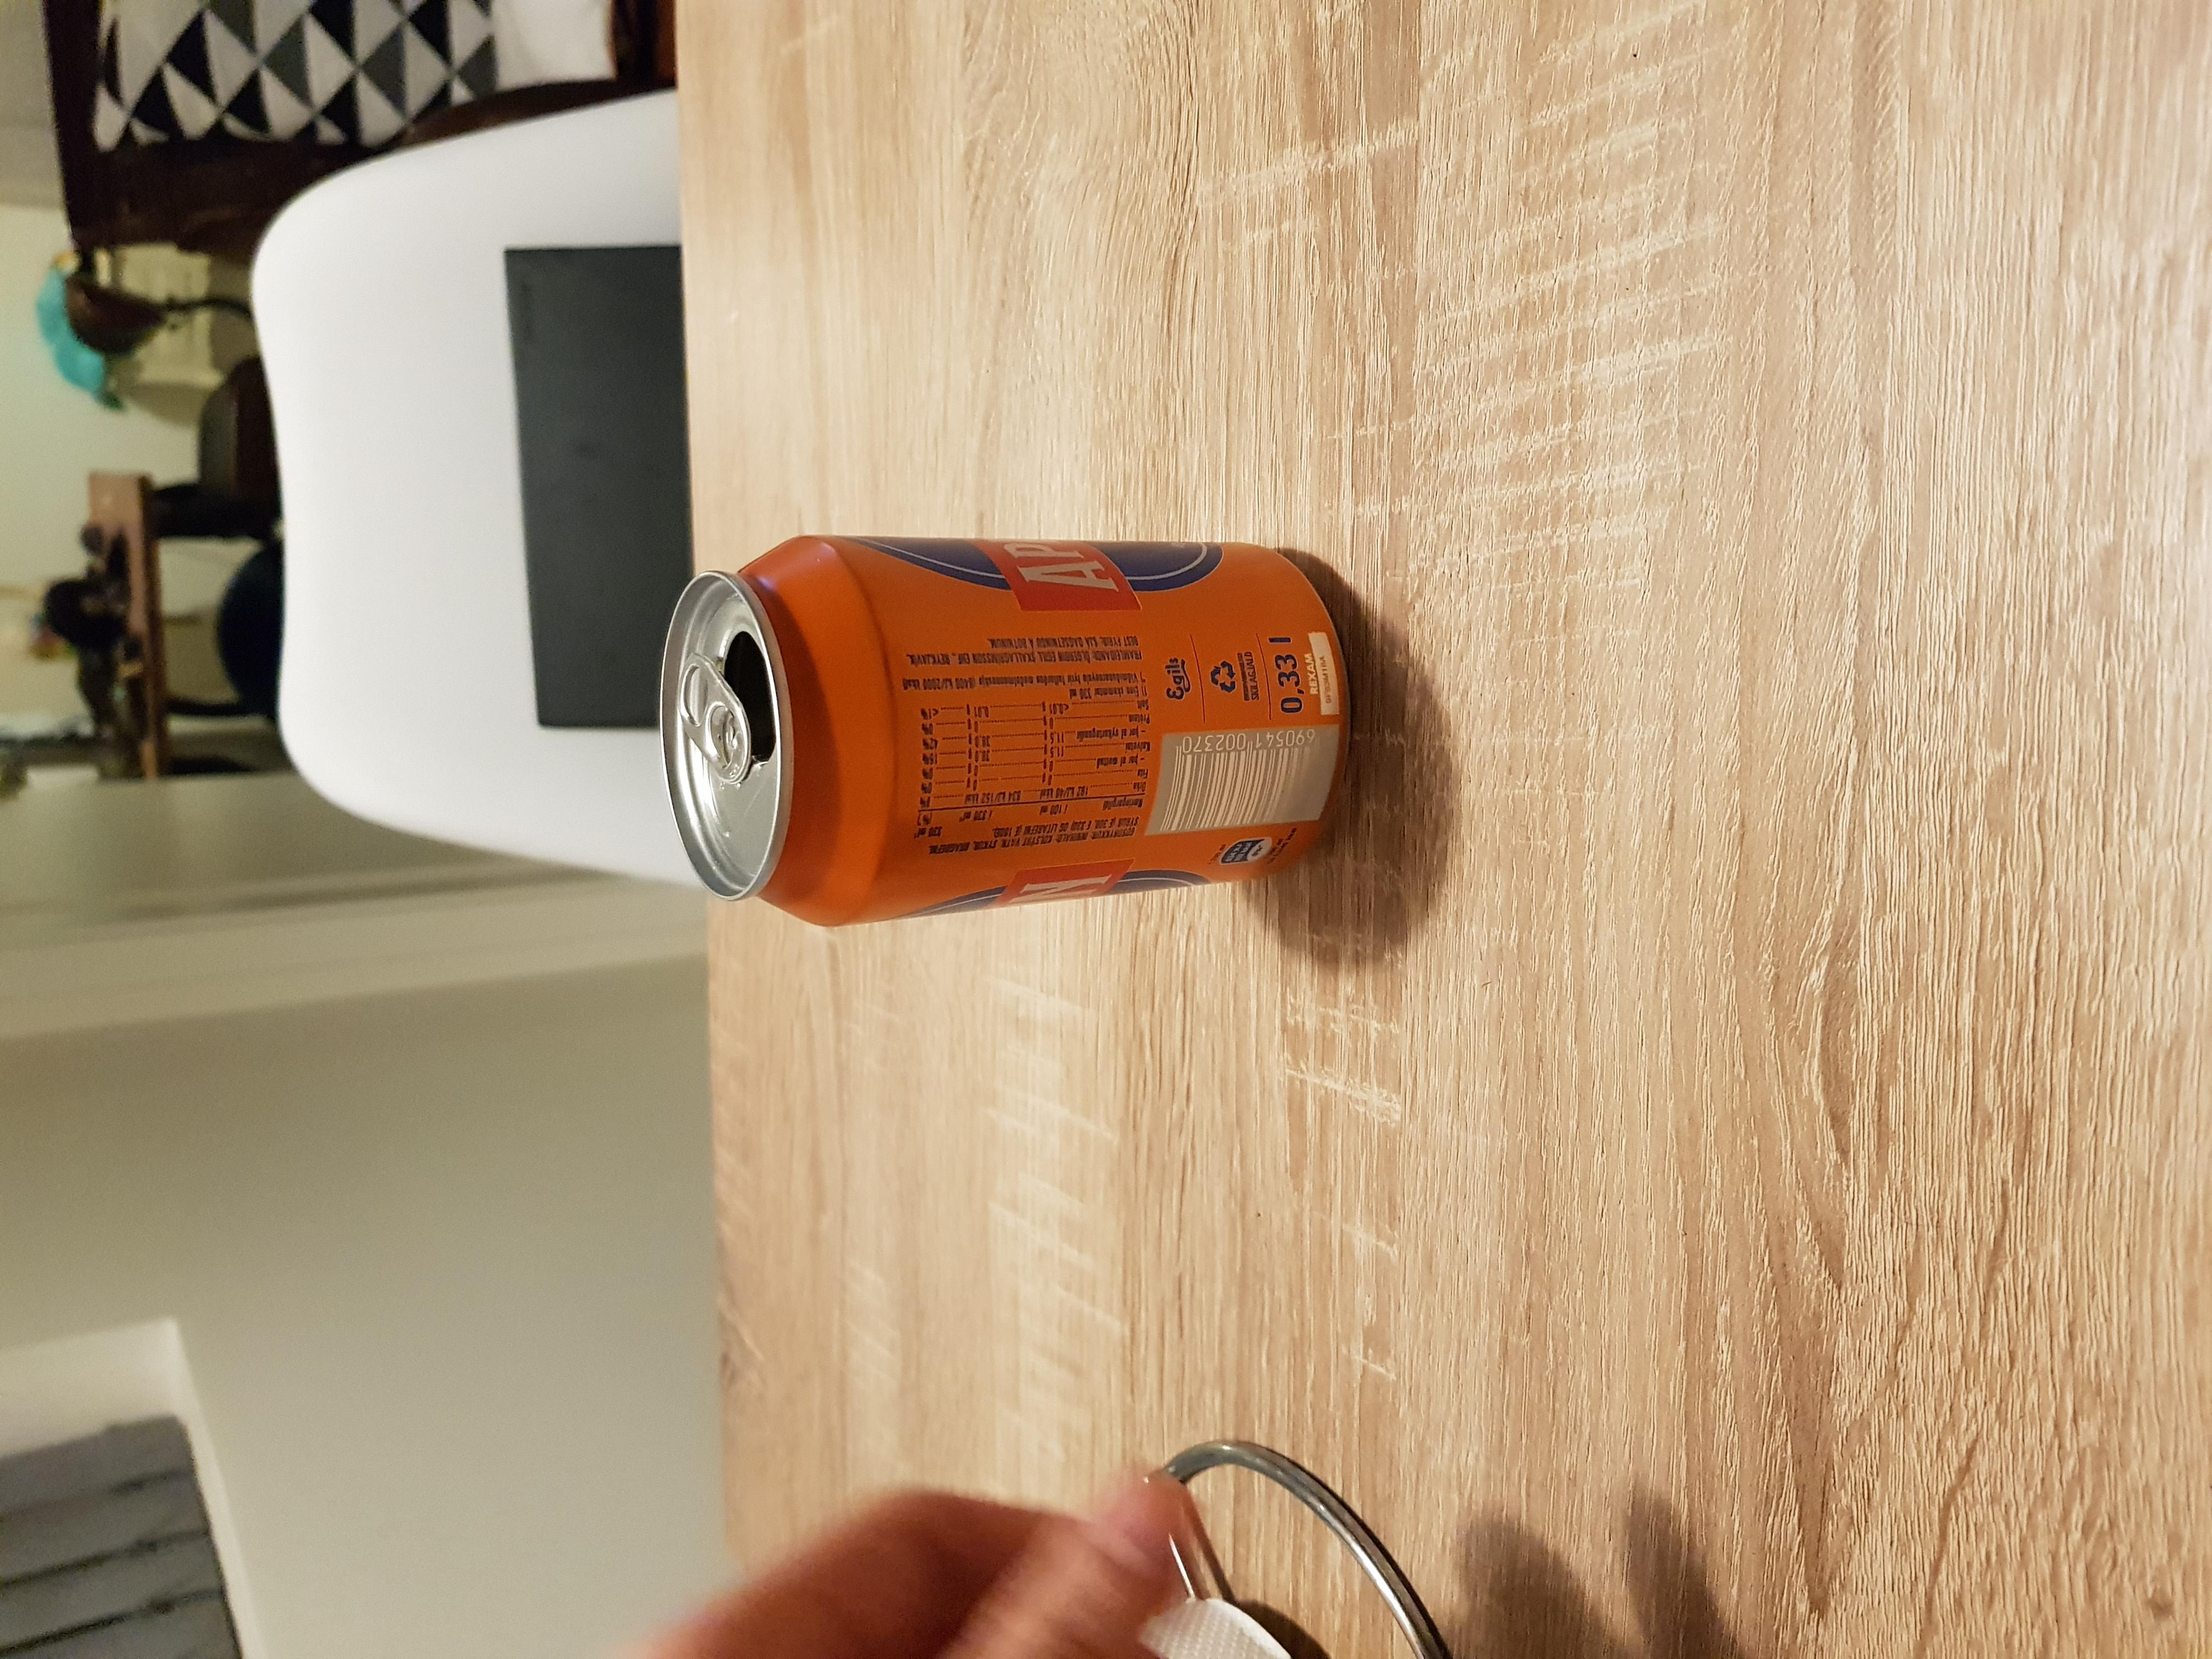can: (651, 525, 1348, 922)
